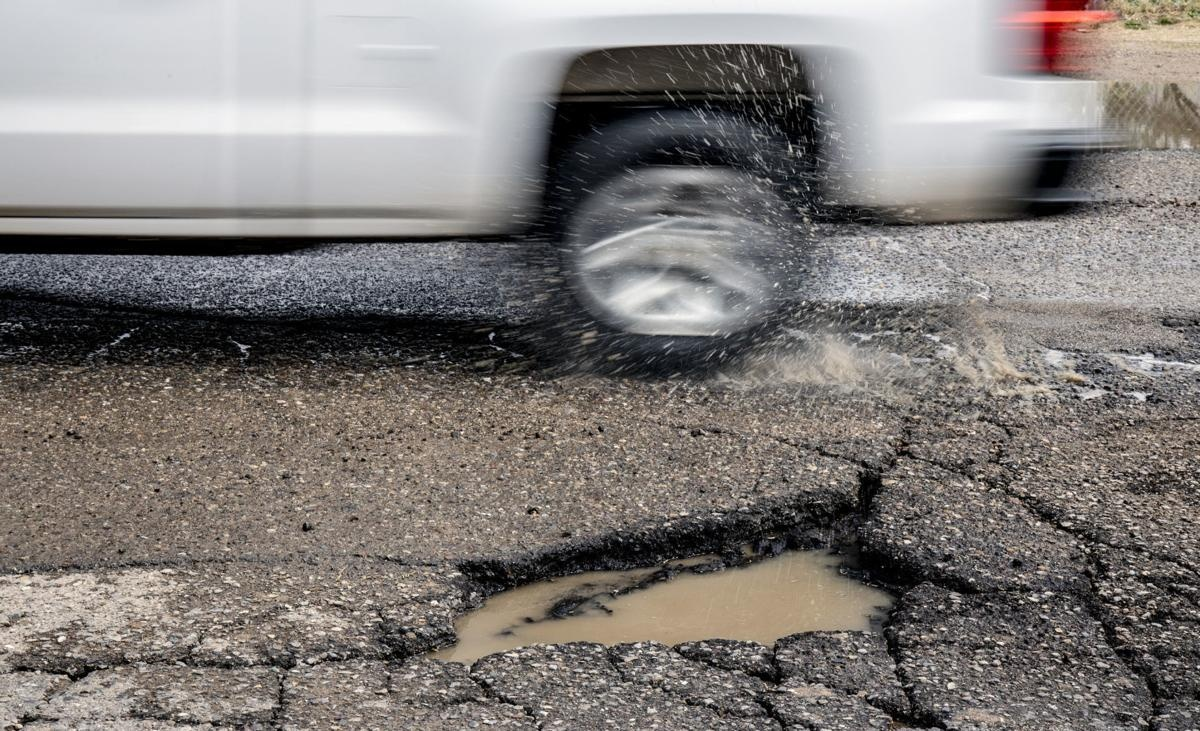pothole: (377, 418, 1053, 680)
